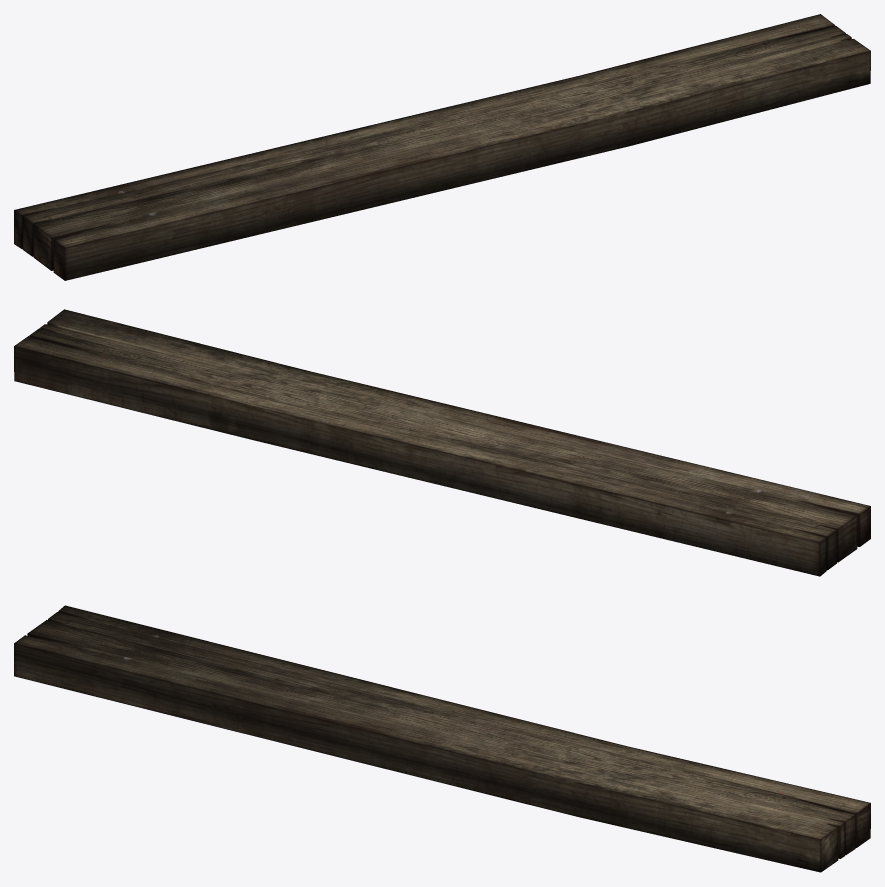
The model's file is plank_4.gltf.
3 renders of one model, top to bottom at view 1: azimuth 30°, elevation 25°; view 2: azimuth 150°, elevation 25°; view 3: azimuth 330°, elevation 25°, orthographic.
Parts seen in each view (by area): view 1: defaultMaterial; view 2: defaultMaterial; view 3: defaultMaterial.
Part boxes in pixels (x1,y1,x2,y2): defaultMaterial: [14, 14, 870, 280]; defaultMaterial: [14, 309, 870, 576]; defaultMaterial: [14, 605, 870, 872].
Size of the model in its own units: 200 by 8.66 by 22.02.
1 material, 1 textured.
